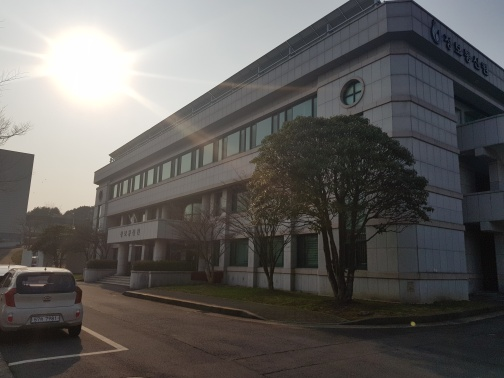Information Telecommunication Center: (69, 43, 503, 294), (429, 10, 499, 90), (109, 211, 155, 244)
